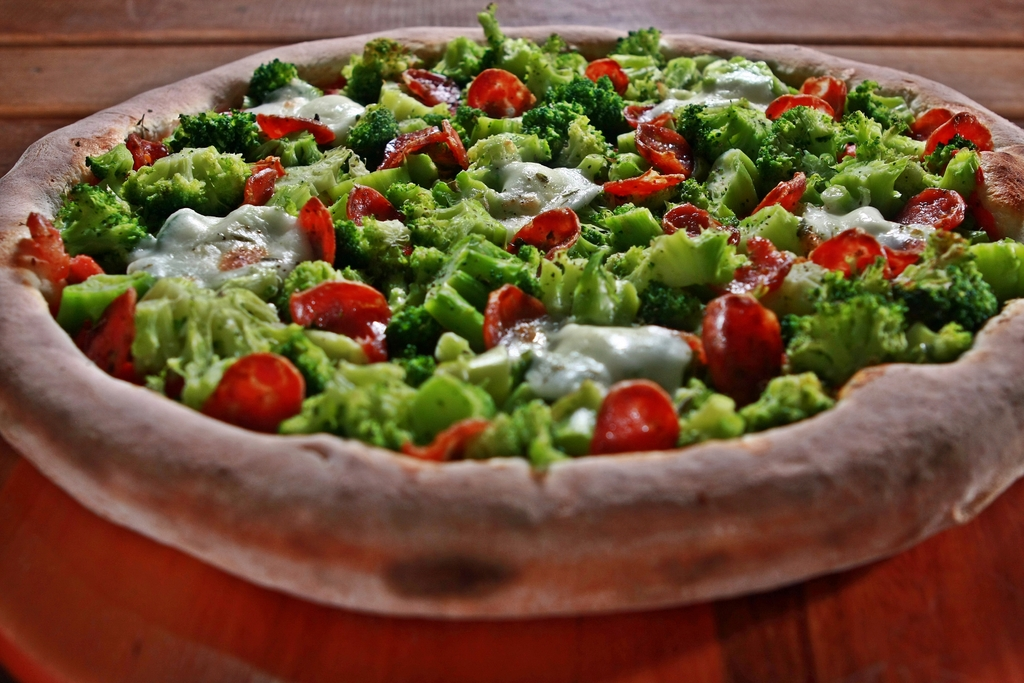pizza: (0, 1, 1023, 658)
